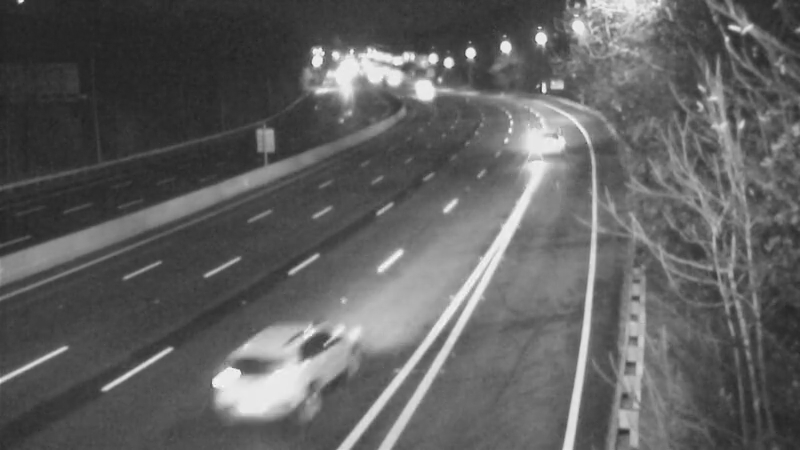vehicle: (202, 317, 312, 427), (404, 60, 454, 110), (398, 70, 448, 120), (517, 118, 567, 168)
